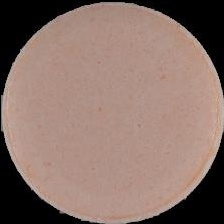10544-900: (0, 0, 224, 224)
